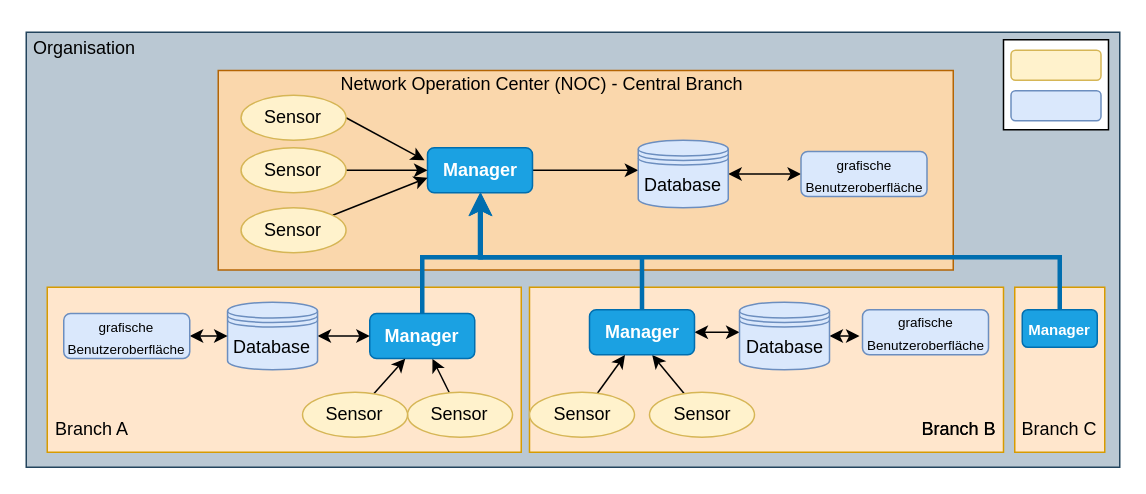
Some shapes in this 1146 by 494 pixel diagram are drawn without their labels. Each missing label, with the centre of its shape:
"External Tools" goes at (x=1055, y=64).
"Preludes" goes at (x=1055, y=105).
